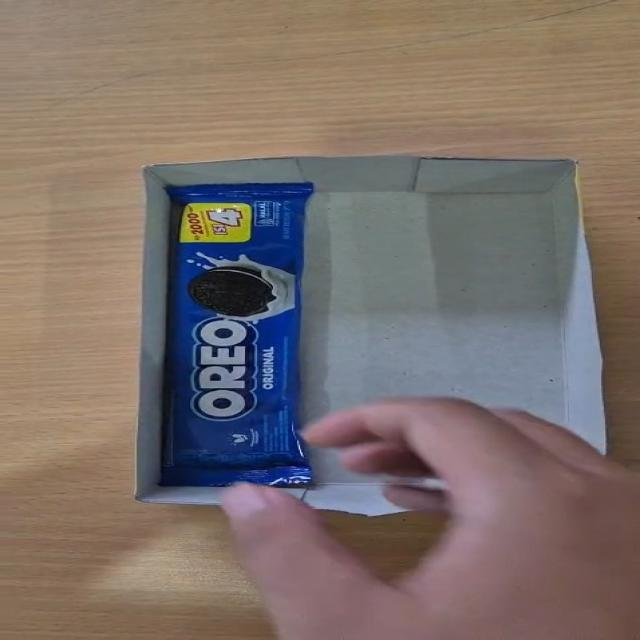Oreo: (157, 182, 316, 487)
